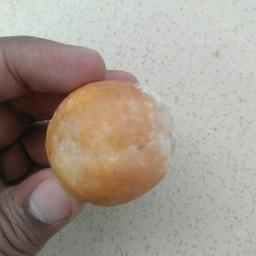Bad_lime: (41, 79, 176, 208)
